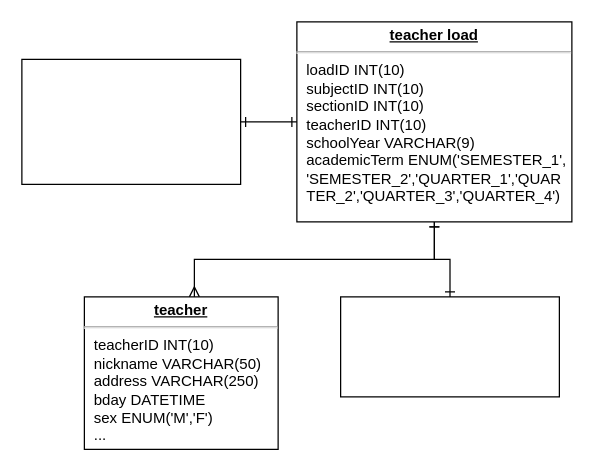
This 594x471 diagram has some shape labels left out. Here are the shapes that lost their labels. From the top down, the centre of each, then its label:
(x=131, y=121): subject subjectID INT(10) subjectCode INT(10) subjectName VARCHAR(50)
(x=449, y=346): section sectionID INT(10) sectionName VARCHAR(250)
